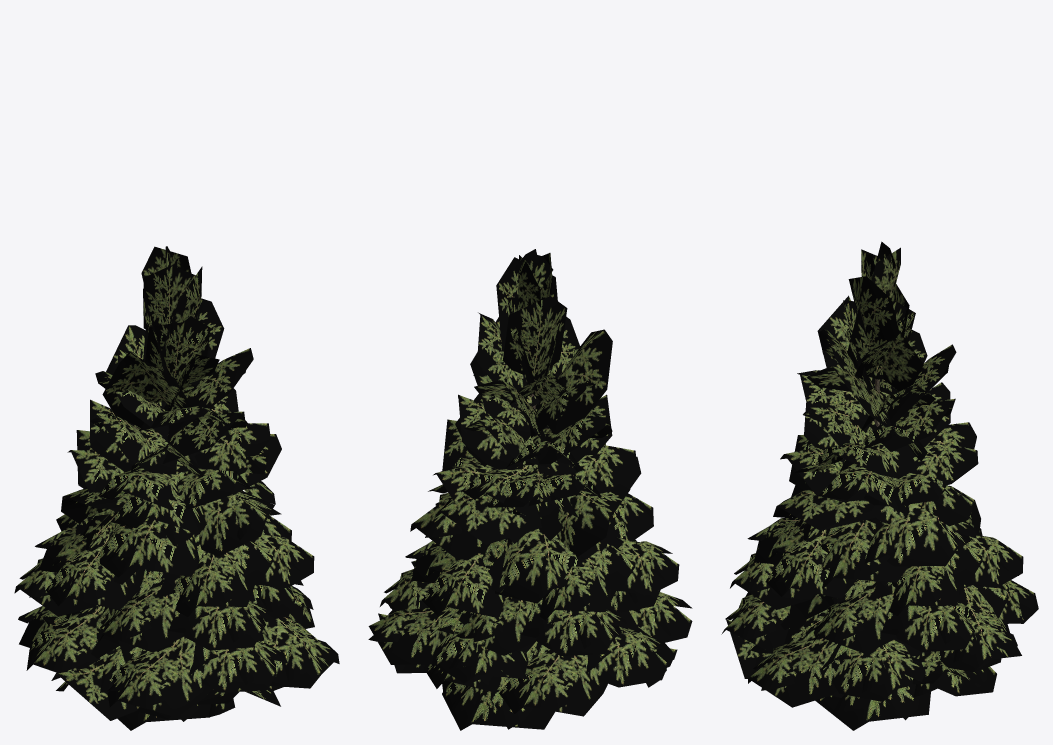
Rendered from Tree.fbx.
3 views of the same model, side by side, from view 1: azimuth 30°, elevation 25°; view 2: azimuth 150°, elevation 25°; view 3: azimuth 270°, elevation 25° (orthographic).
Parts seen in each view (by area): view 1: treeBranches2; view 2: treeBranches2; view 3: treeBranches2.
Boxes of the visible parts, x1=… form: treeBranches2: x1=14, y1=246, x2=339, y2=730; treeBranches2: x1=368, y1=249, x2=692, y2=730; treeBranches2: x1=721, y1=241, x2=1038, y2=730.
Bounding box in the file's own units: 8.7 × 20.57 × 8.74.
